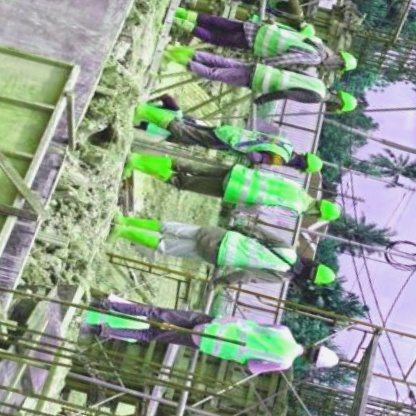vest: (190, 296, 308, 384), (208, 218, 310, 293), (216, 155, 318, 229), (207, 114, 299, 174), (246, 14, 334, 75)
white: (310, 337, 347, 374)
yellow: (315, 192, 352, 230), (298, 145, 333, 182), (337, 43, 370, 78), (310, 258, 342, 292), (298, 20, 326, 39)
